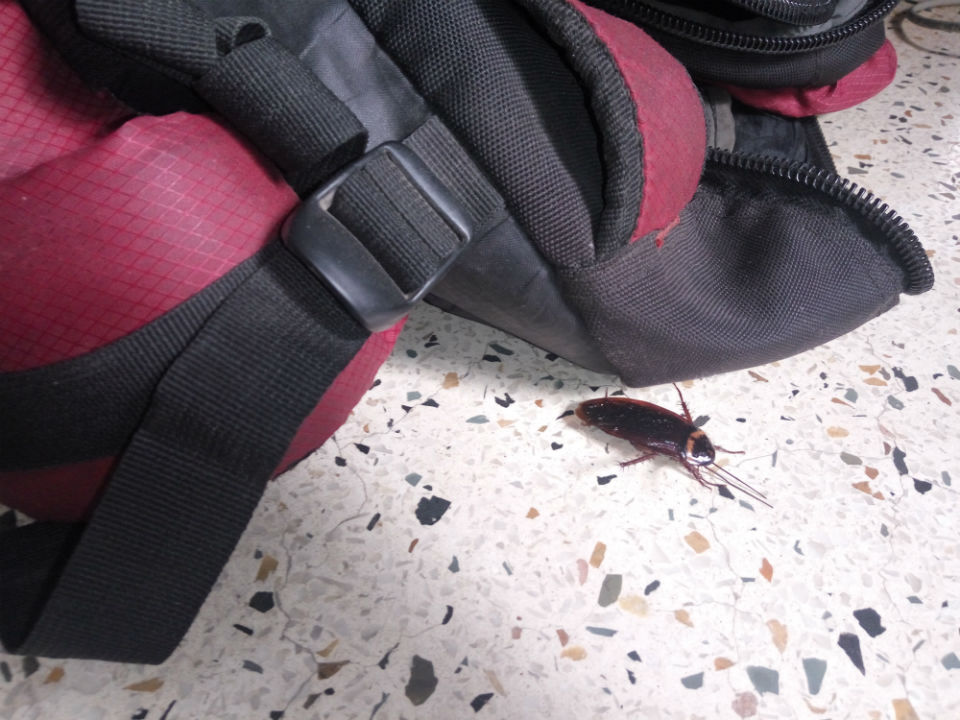cockroach: (553, 390, 756, 516)
